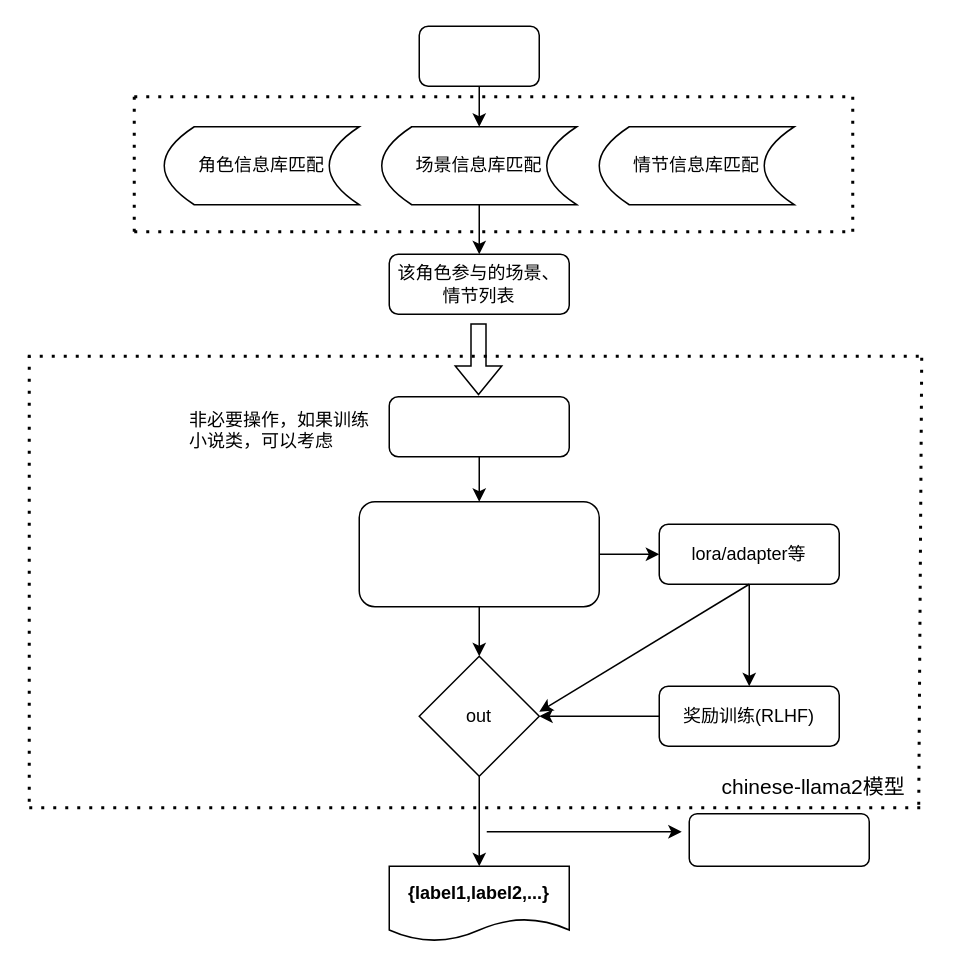
This 957x968 diagram has some shape labels left out. The box of each missing label's shape, as (x1, y1, x2, y2) in pixels:
llama: (358, 500, 599, 607)
习惯细节描述检索: (688, 812, 869, 866)
扩充词表: (388, 395, 569, 457)
输入角色: (418, 25, 539, 86)
